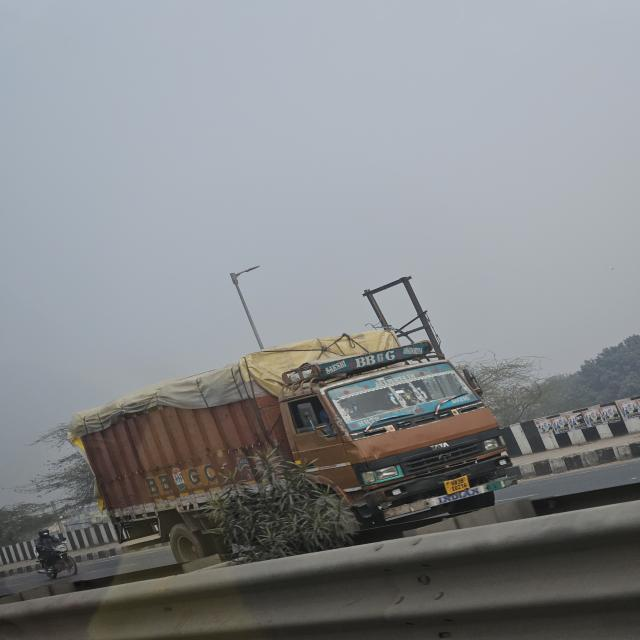covered: (51, 340, 556, 540)
